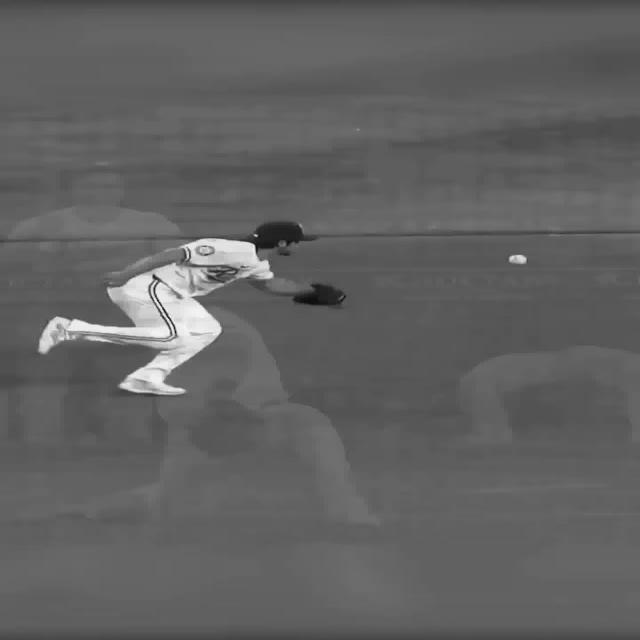baseball: (509, 255, 527, 265)
baseball_glove: (293, 284, 347, 305)
shoe: (38, 316, 71, 355), (118, 378, 187, 395)
